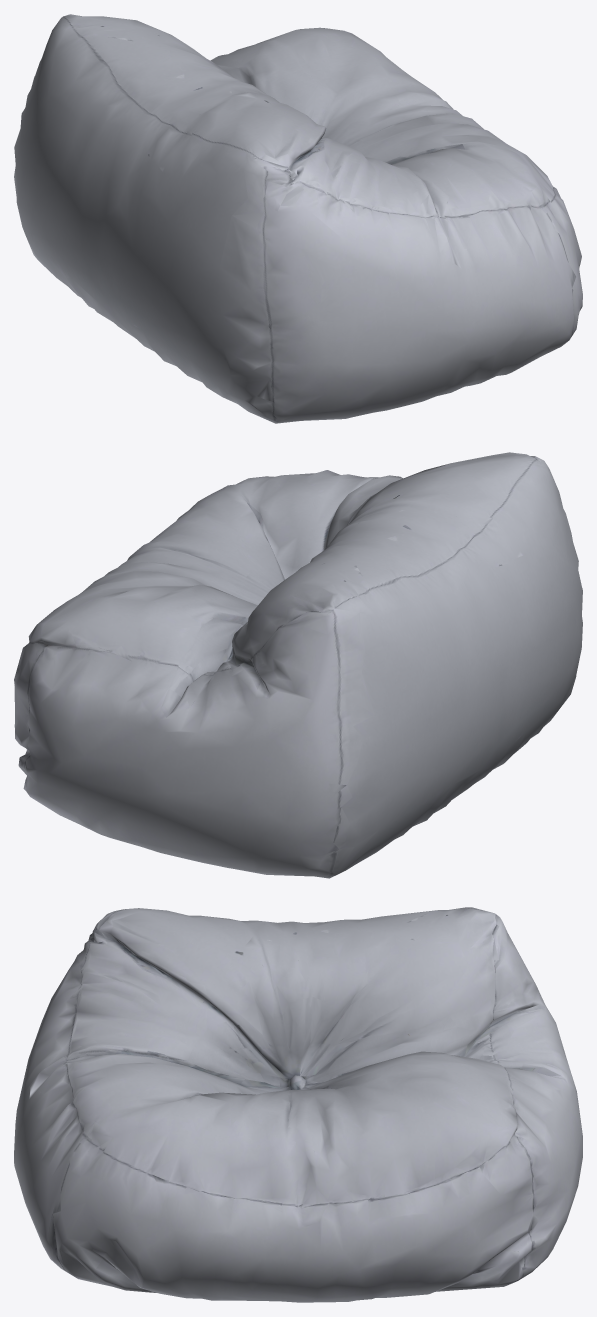
File: BinbagSModeling.fbx
3 views of the same model, one above another, from view 1: azimuth 30°, elevation 25°; view 2: azimuth 150°, elevation 25°; view 3: azimuth 270°, elevation 25° (orthographic). The views are drawn at different scales.
Parts seen in each view (by area): view 1: tripo_node_b8362fb1; view 2: tripo_node_b8362fb1; view 3: tripo_node_b8362fb1.
Part boxes in pixels (box(x1,y1,x2,y2)): tripo_node_b8362fb1: box(14, 14, 582, 423); tripo_node_b8362fb1: box(14, 452, 582, 878); tripo_node_b8362fb1: box(14, 907, 582, 1302).
Size of the model in its own units: 79.22 by 49.43 by 97.9.
Materials: 1 (1 with a texture image).
